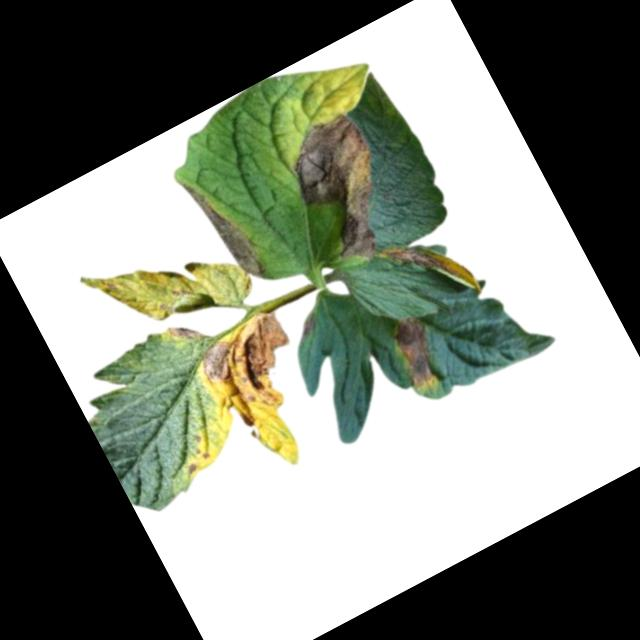Early_blight: (271, 106, 416, 276), (190, 308, 319, 439), (379, 219, 486, 325), (178, 170, 267, 291), (381, 313, 451, 399), (162, 312, 205, 353), (292, 314, 320, 342), (180, 457, 201, 480)
